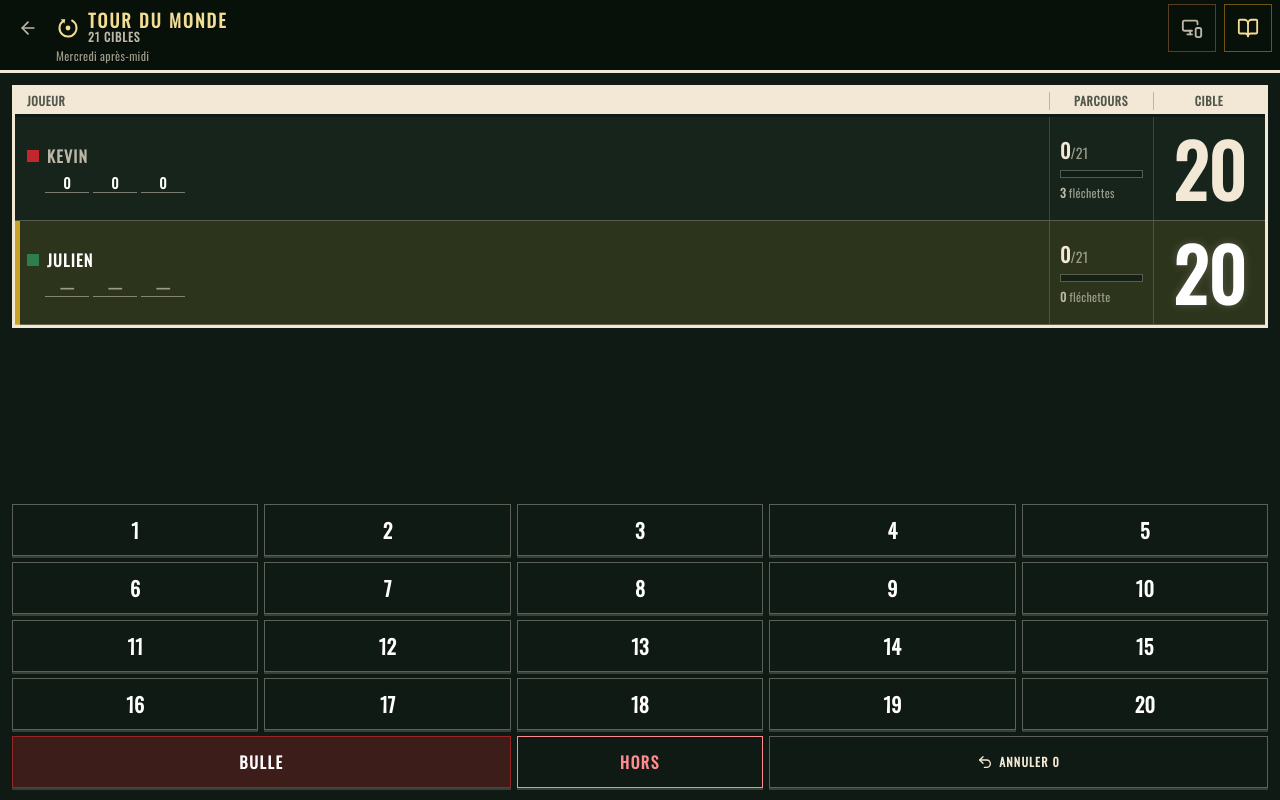
Test: Annuler, double appui — TOUR_DU_MONDE (écran) › critère 3 : deux fléchettes en cours, deux appuis les retirent sans pause
Check: the button "Annuler 0" is enabled, box [769,736,1268,788]
Click the button "20" at (1145, 704), box [1022,678,1268,730]
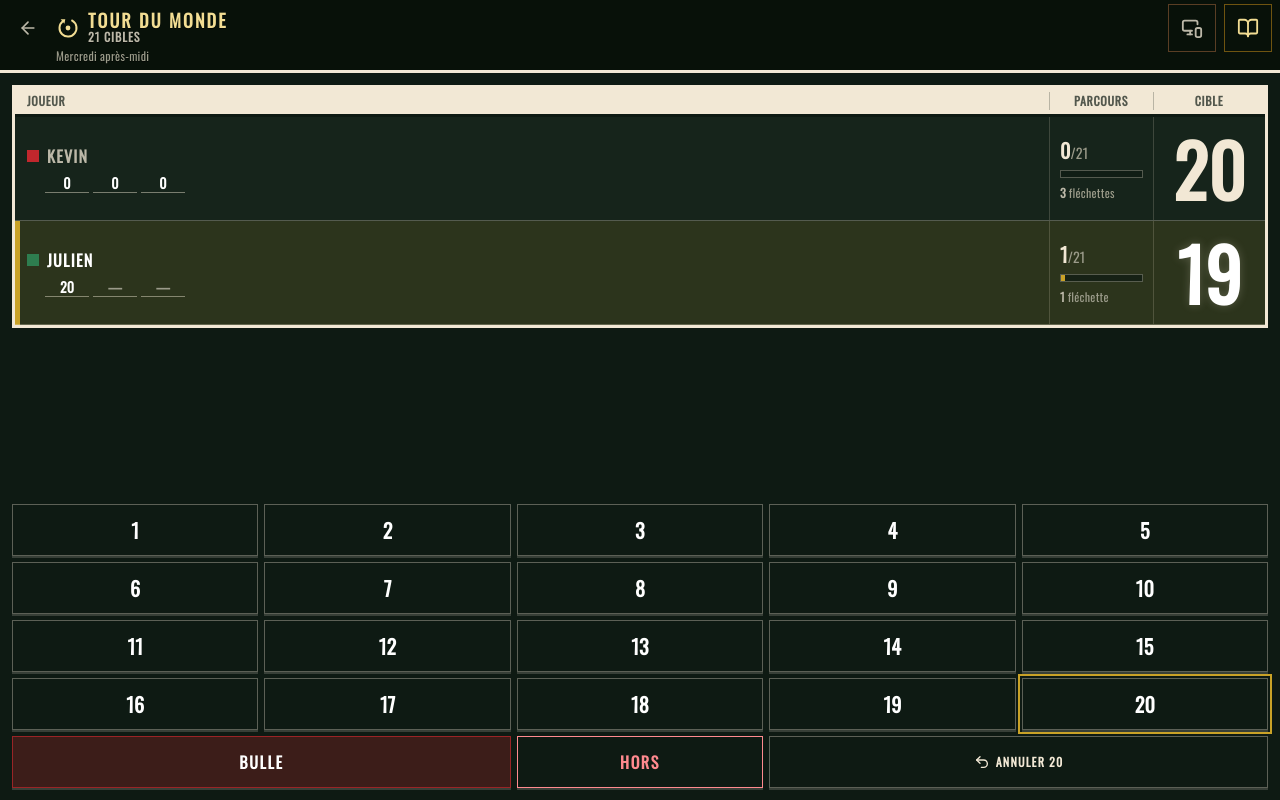
Click the button "20" at (1145, 704), box [1022,678,1268,730]
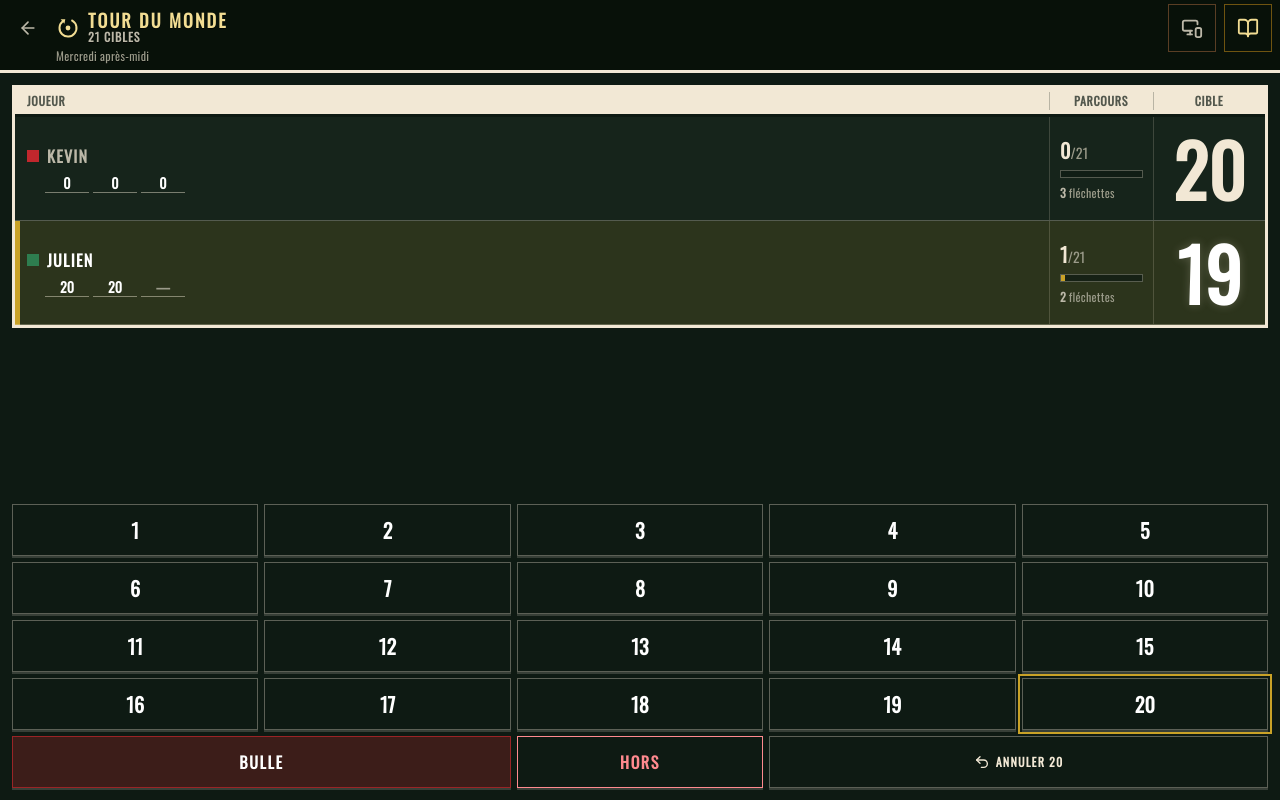
Click the button "Annuler 20" at (1019, 762), box [769,736,1268,788]
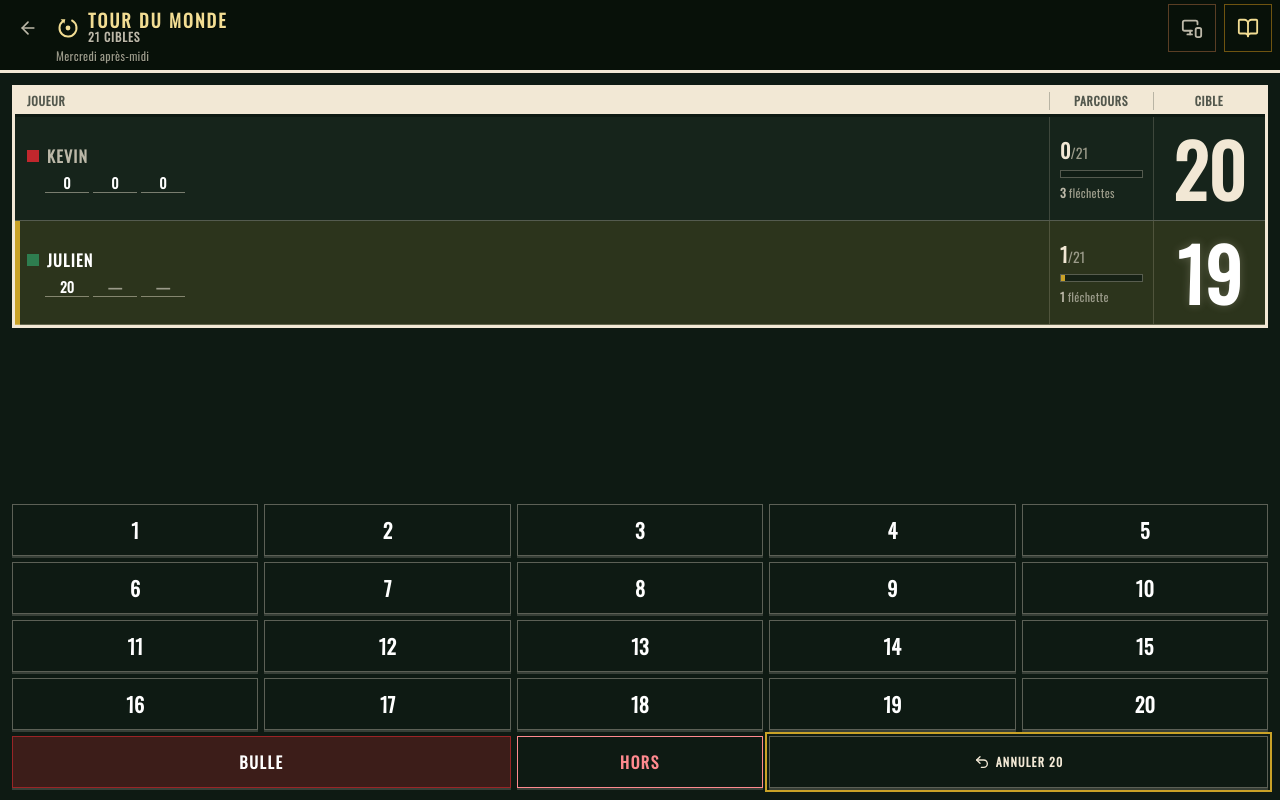
Click the button "Annuler 20" at (1019, 762), box [769,736,1268,788]
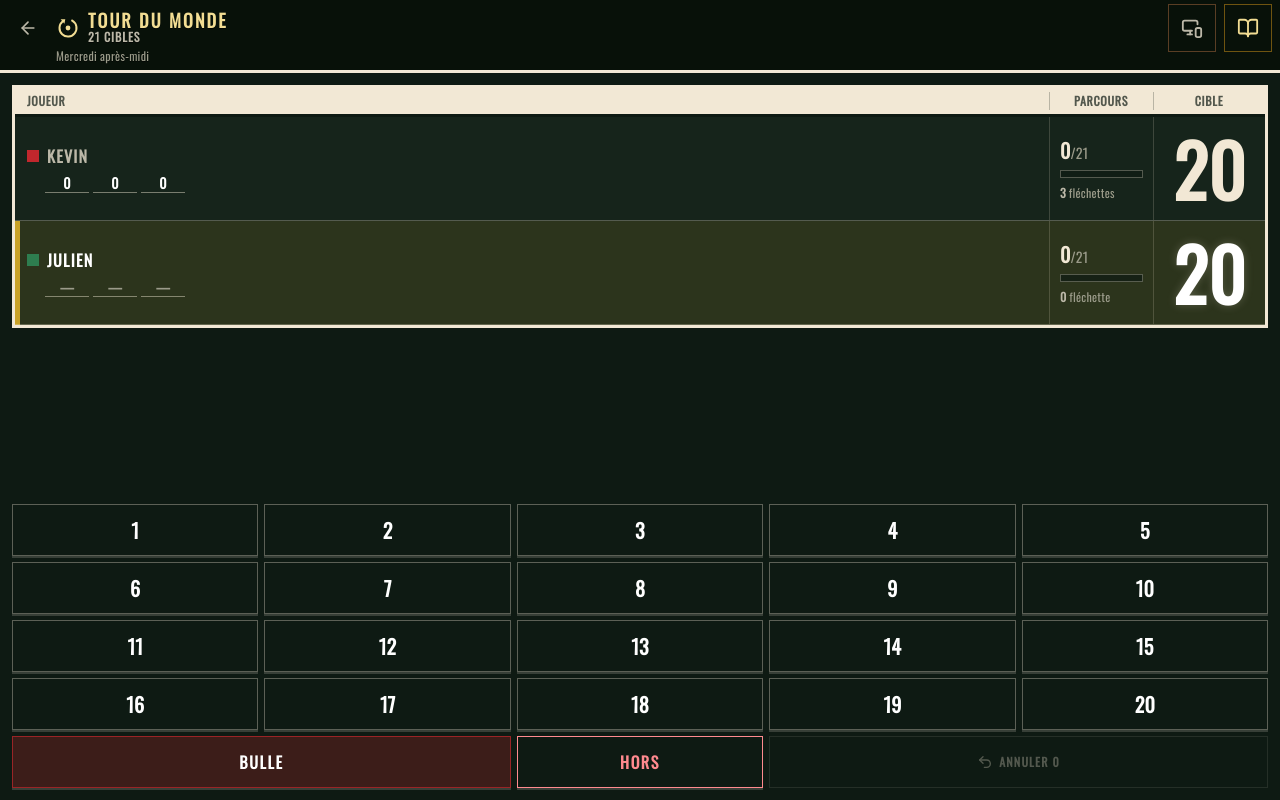
Check: the button "Annuler 0" is disabled, box [769,736,1268,788]
